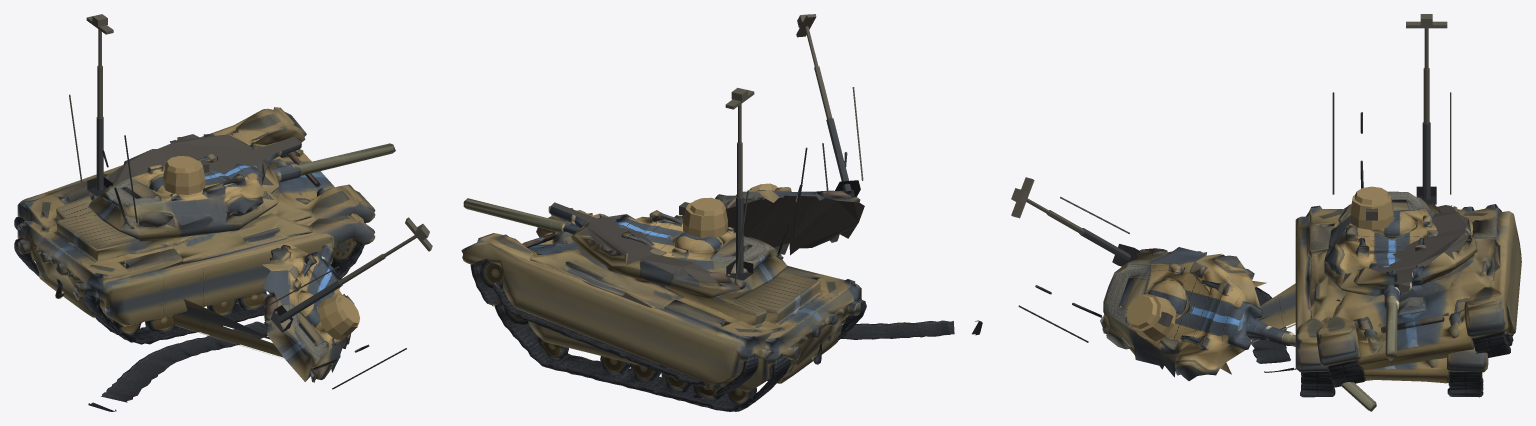
File: officer_armour.glb
3 renders of one model, left to right at view 1: azimuth 30°, elevation 25°; view 2: azimuth 150°, elevation 25°; view 3: azimuth 270°, elevation 25°, orthographic. The views are drawn at different scales.
Visible parts, largest first — view 1: hull_hull, WRECK_hull_hull, turret_hull, WRECK_turret_hull, turret_metal, WRECK_hull_rubber, WRECK_turret_metal, hull_rubber; view 2: WRECK_hull_hull, hull_hull, turret_hull, WRECK_turret_hull, hull_rubber, WRECK_hull_rubber, turret_metal, WRECK_turret_metal; view 3: WRECK_hull_hull, WRECK_turret_hull, hull_hull, turret_hull, turret_metal, WRECK_turret_metal, WRECK_hull_rubber, hull_rubber.
Part boxes in pixels (x1,y1,x2,y2): hull_hull: [14, 169, 375, 333]; WRECK_hull_hull: [14, 107, 375, 358]; turret_hull: [89, 154, 272, 229]; WRECK_turret_hull: [261, 242, 359, 382]; turret_metal: [69, 14, 395, 222]; WRECK_hull_rubber: [88, 321, 267, 411]; WRECK_turret_metal: [264, 217, 432, 389]; hull_rubber: [35, 273, 342, 344]; WRECK_hull_hull: [461, 202, 832, 395]; hull_hull: [488, 213, 866, 400]; turret_hull: [613, 197, 786, 289]; WRECK_turret_hull: [715, 183, 864, 255]; hull_rubber: [518, 333, 846, 411]; WRECK_hull_rubber: [491, 282, 982, 386]; turret_metal: [463, 87, 807, 283]; WRECK_turret_metal: [796, 14, 863, 196]; WRECK_hull_hull: [1175, 204, 1521, 387]; WRECK_turret_hull: [1100, 247, 1266, 380]; hull_hull: [1295, 204, 1488, 388]; turret_hull: [1324, 186, 1440, 280]; turret_metal: [1332, 14, 1451, 360]; WRECK_turret_metal: [1011, 177, 1376, 411]; WRECK_hull_rubber: [1197, 251, 1513, 372]; hull_rubber: [1300, 372, 1483, 397].
Bounding box in the file's own units: 7.27 × 5.07 × 7.67.
1 material, 1 textured.
